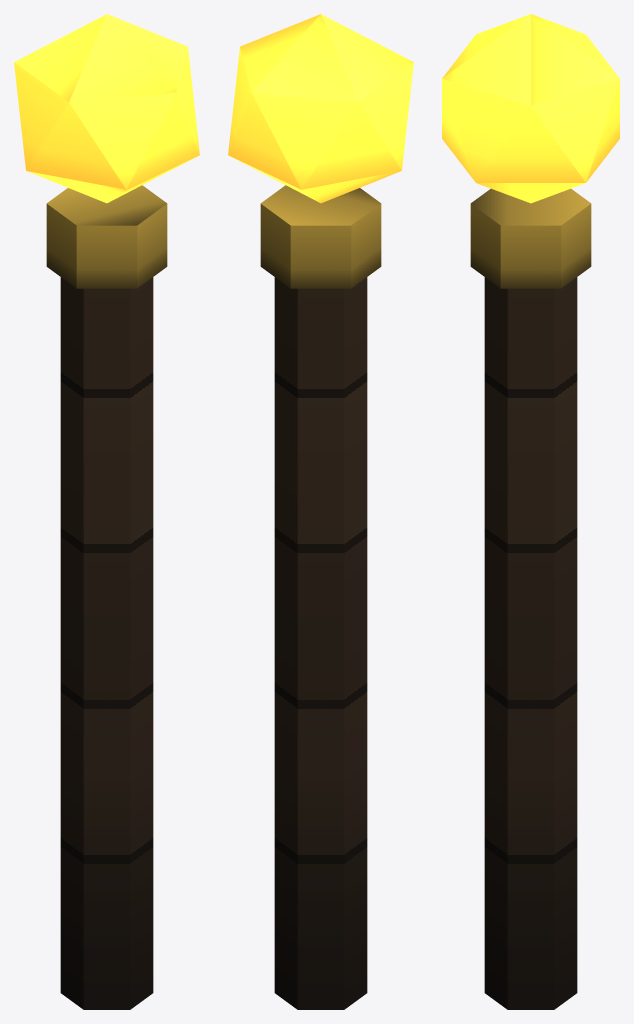
Rendered from crystal_wand.gltf.
3 renders of one model, left to right at view 1: azimuth 30°, elevation 25°; view 2: azimuth 150°, elevation 25°; view 3: azimuth 270°, elevation 25°, orthographic.
Parts seen in each view (by area): view 1: crystal_wand; view 2: crystal_wand; view 3: crystal_wand.
Boxes of the visible parts, x1=… form: crystal_wand: x1=14, y1=14, x2=199, y2=1009; crystal_wand: x1=228, y1=14, x2=413, y2=1009; crystal_wand: x1=442, y1=14, x2=619, y2=1009.
Bounding box in the file's own units: 0.0805 × 0.465 × 0.0766.
Materials: 1 (1 with a texture image).
